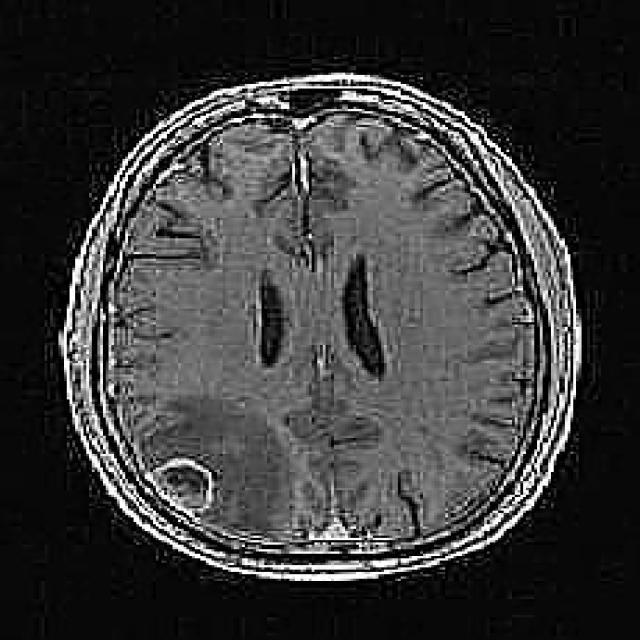notumor: (58, 73, 579, 579)
